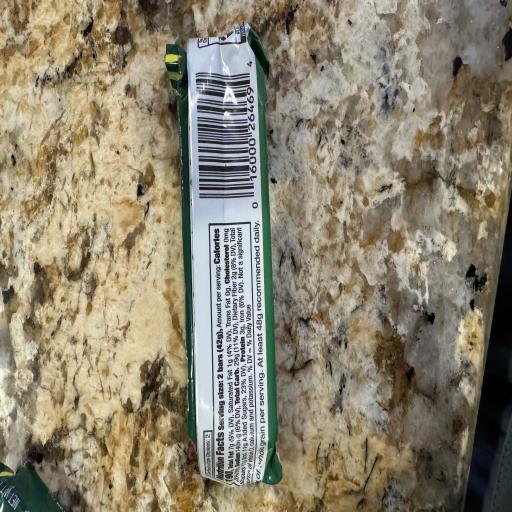granola: (166, 23, 281, 484), (0, 463, 63, 511)
